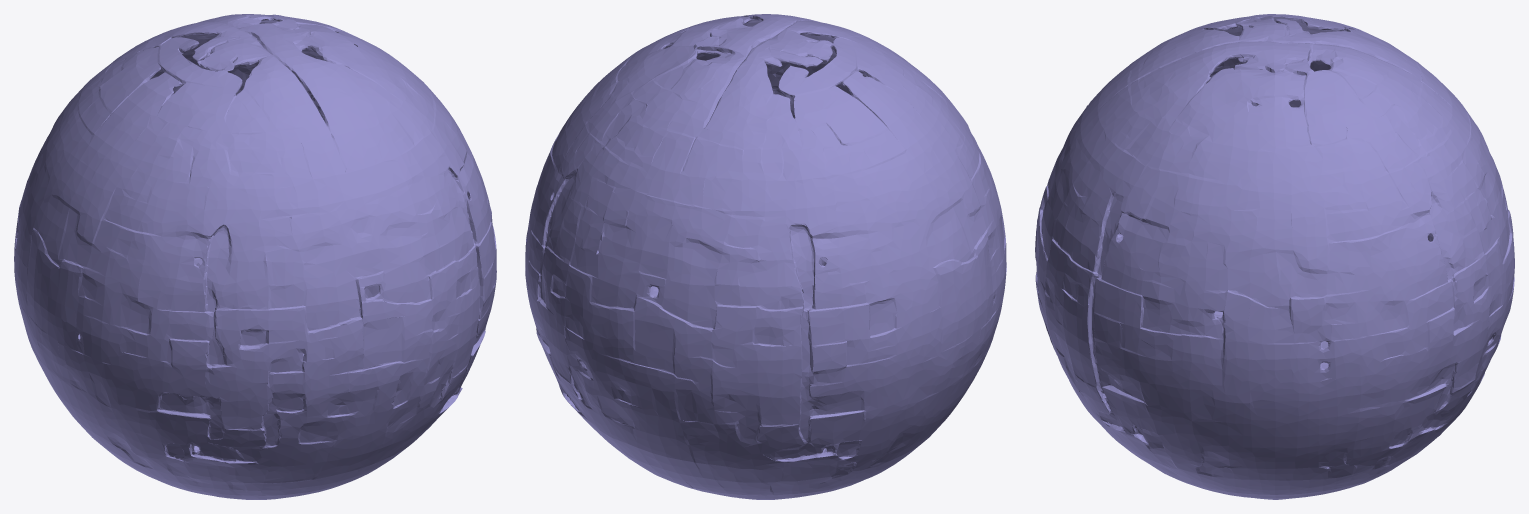
File: sample2.glb
3 views of the same model, side by side, from view 1: azimuth 30°, elevation 25°; view 2: azimuth 150°, elevation 25°; view 3: azimuth 270°, elevation 25° (orthographic).
Visible parts, largest first — view 1: world; view 2: world; view 3: world.
Boxes of the visible parts, x1,y1,x2,y2 form: world: (14,14,496,499); world: (525,14,1006,499); world: (1035,14,1514,499).
Size of the model in its own units: 0.9974 by 0.9991 by 0.9959.
